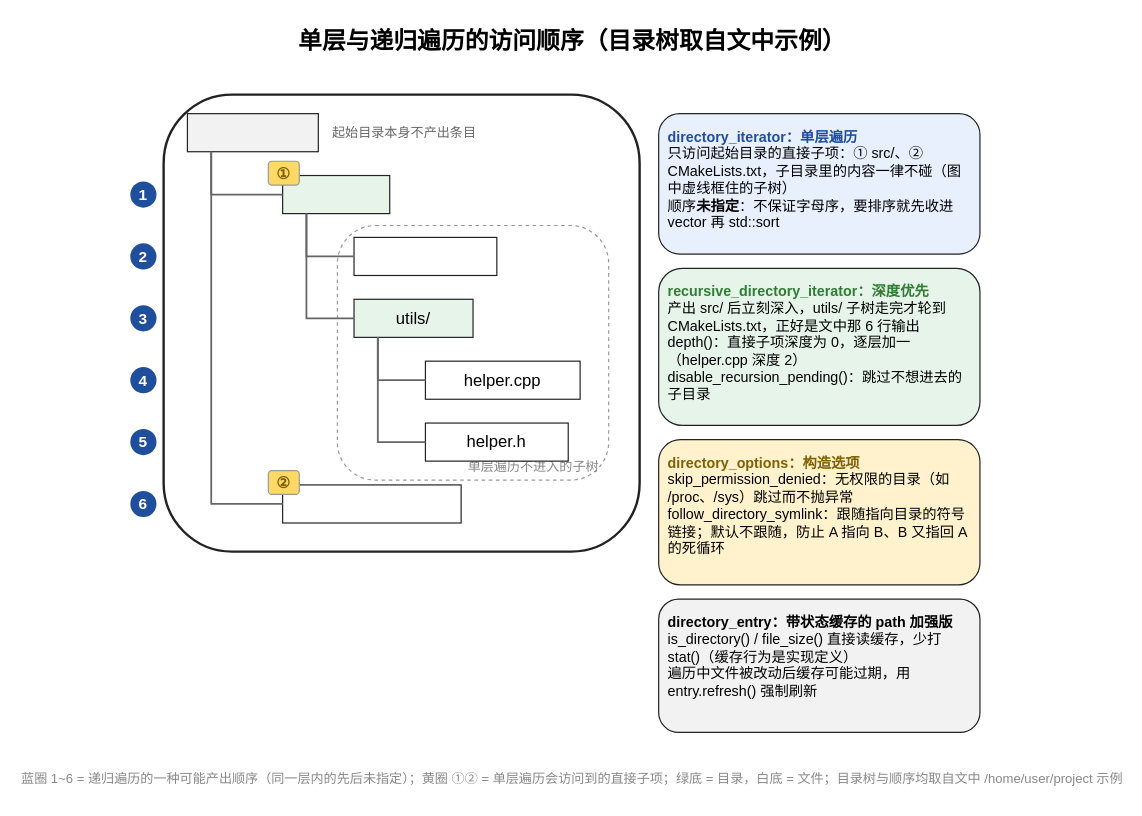
Image size: 1142x816. Some labels were removed from this diagram. Here are the shapes that lost their labels. From the top down, the centre of each, then its label:
At [252,132]: "project/".
At [335,194]: "src/".
At [425,255]: "main.cpp".
At [371,503]: "CMakeLists.txt".
